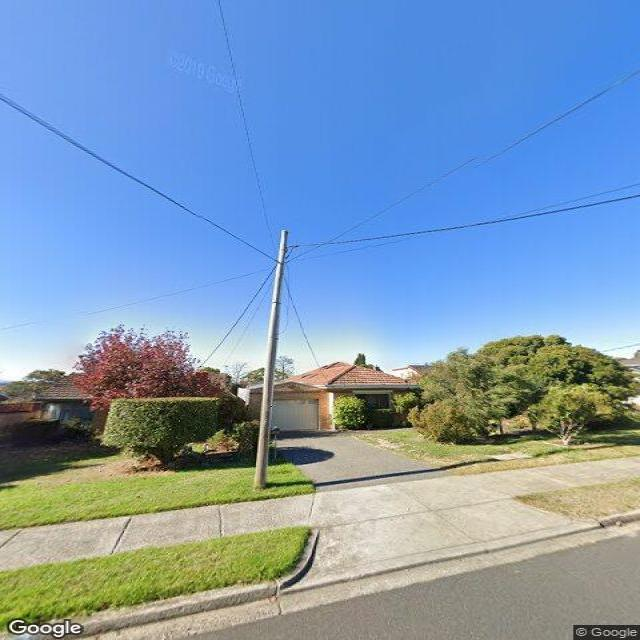timber-pole: (252, 227, 289, 488)
